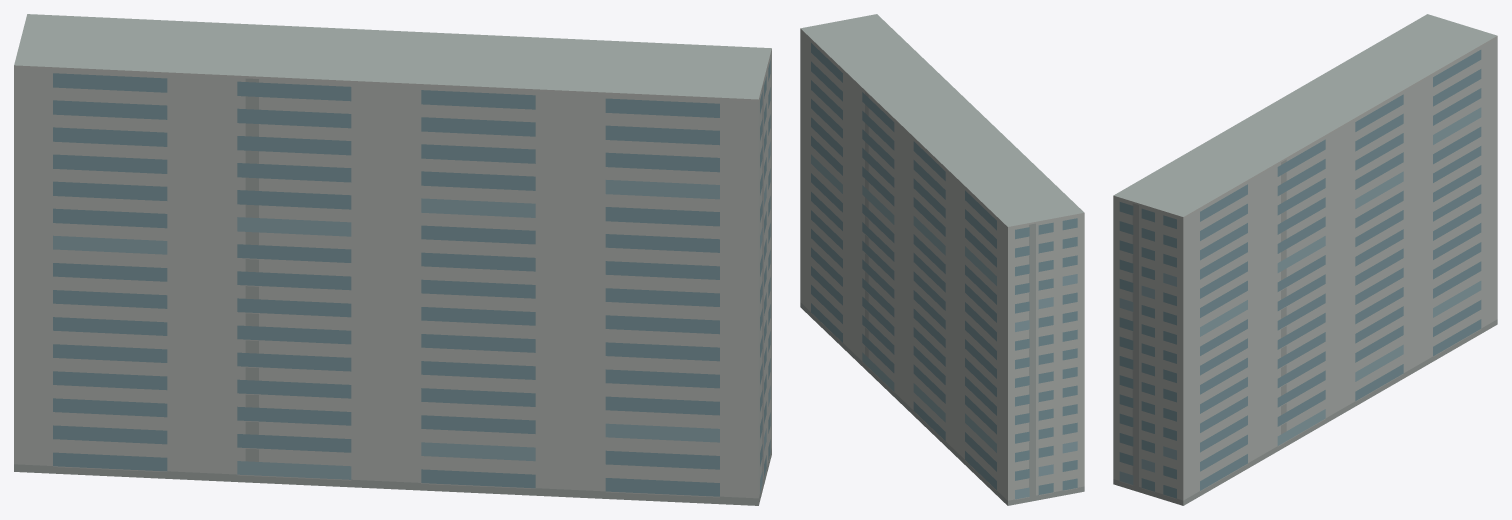
Rendered from residential-1e7c8dfe-12ce-4a4f-9887-1bd83a1c0a6a.glb.
3 renders of one model, left to right at view 1: azimuth 30°, elevation 25°; view 2: azimuth 150°, elevation 25°; view 3: azimuth 270°, elevation 25°, orthographic. The views are drawn at different scales.
Parts seen in each view (by area): view 1: residential-1e7c8dfe-12ce-4a4f-9887-1bd83a1c0a6a.tmp; view 2: residential-1e7c8dfe-12ce-4a4f-9887-1bd83a1c0a6a.tmp; view 3: residential-1e7c8dfe-12ce-4a4f-9887-1bd83a1c0a6a.tmp.
Boxes of the visible parts, x1,y1,x2,y2 form: residential-1e7c8dfe-12ce-4a4f-9887-1bd83a1c0a6a.tmp: (14, 14, 771, 505); residential-1e7c8dfe-12ce-4a4f-9887-1bd83a1c0a6a.tmp: (800, 14, 1084, 505); residential-1e7c8dfe-12ce-4a4f-9887-1bd83a1c0a6a.tmp: (1113, 14, 1497, 505).
Bounding box in the file's own units: 60.37 × 40 × 48.26.
